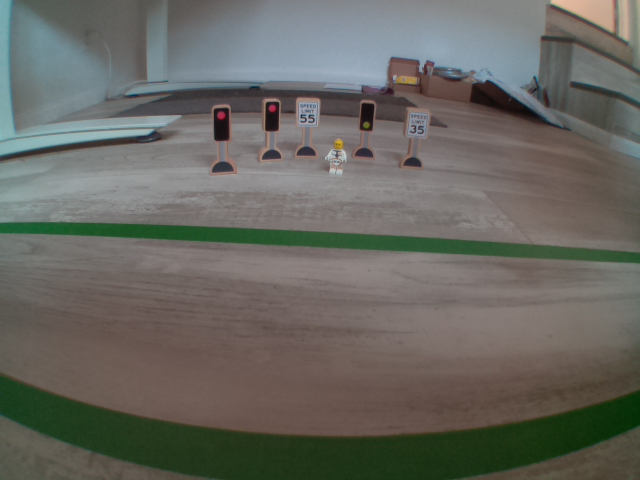Green Traffic Light: (356, 97, 380, 135)
Red Traffic Light: (206, 102, 235, 148), (261, 96, 285, 139)
Speed Limit 35: (404, 106, 430, 140)
Speed Limit 55: (294, 95, 321, 131)
person: (320, 138, 349, 176)
